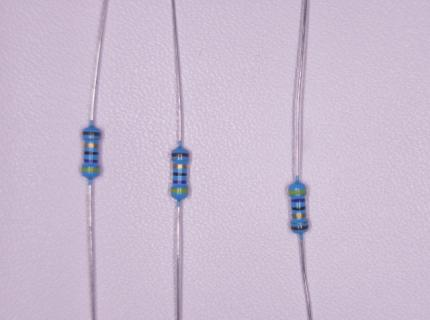Gold band: (84, 143, 99, 148), (173, 164, 188, 169), (291, 214, 306, 219)
Violet band: (83, 159, 99, 164), (173, 180, 187, 185), (291, 199, 306, 203)
Yellow band: (81, 167, 100, 173), (289, 189, 307, 195), (171, 188, 188, 193)
